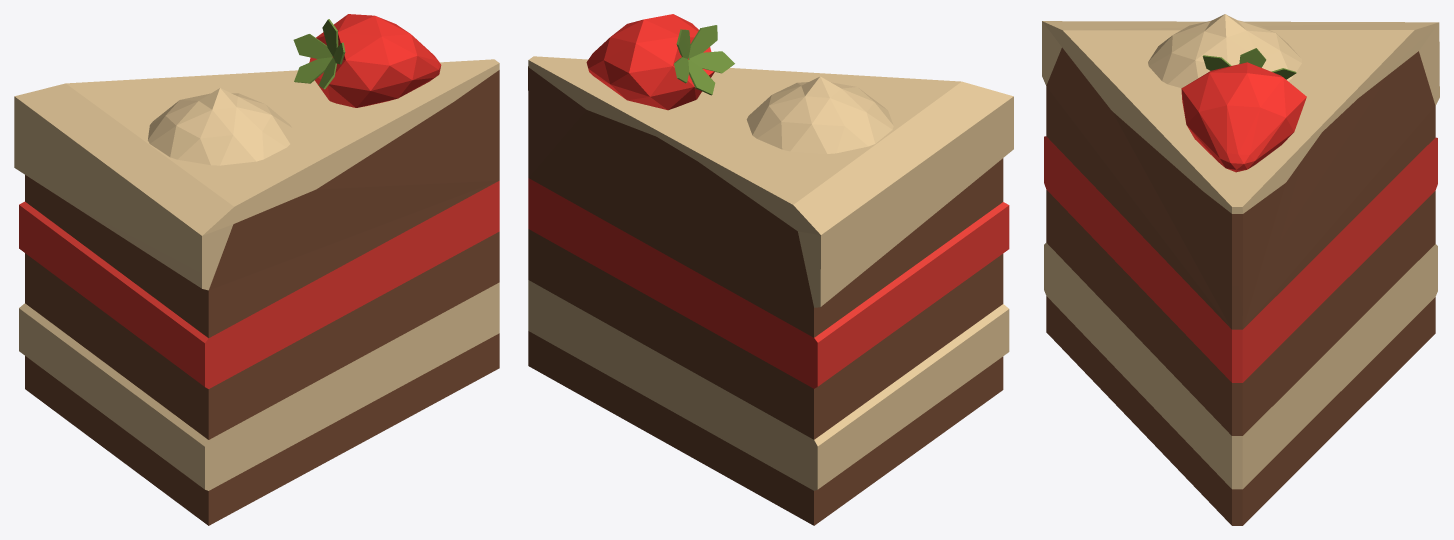
File: Cake_02.fbx
3 renders of one model, left to right at view 1: azimuth 30°, elevation 25°; view 2: azimuth 150°, elevation 25°; view 3: azimuth 270°, elevation 25°, orthographic. The views are drawn at different scales.
Visible parts, largest first — view 1: Cake_02; view 2: Cake_02; view 3: Cake_02.
Part boxes in pixels (x1,y1,x2,y2): Cake_02: (14, 14, 499, 525); Cake_02: (528, 14, 1013, 525); Cake_02: (1042, 14, 1439, 525).
Bounding box in the file's own units: 11.64 × 10.86 × 9.88.
